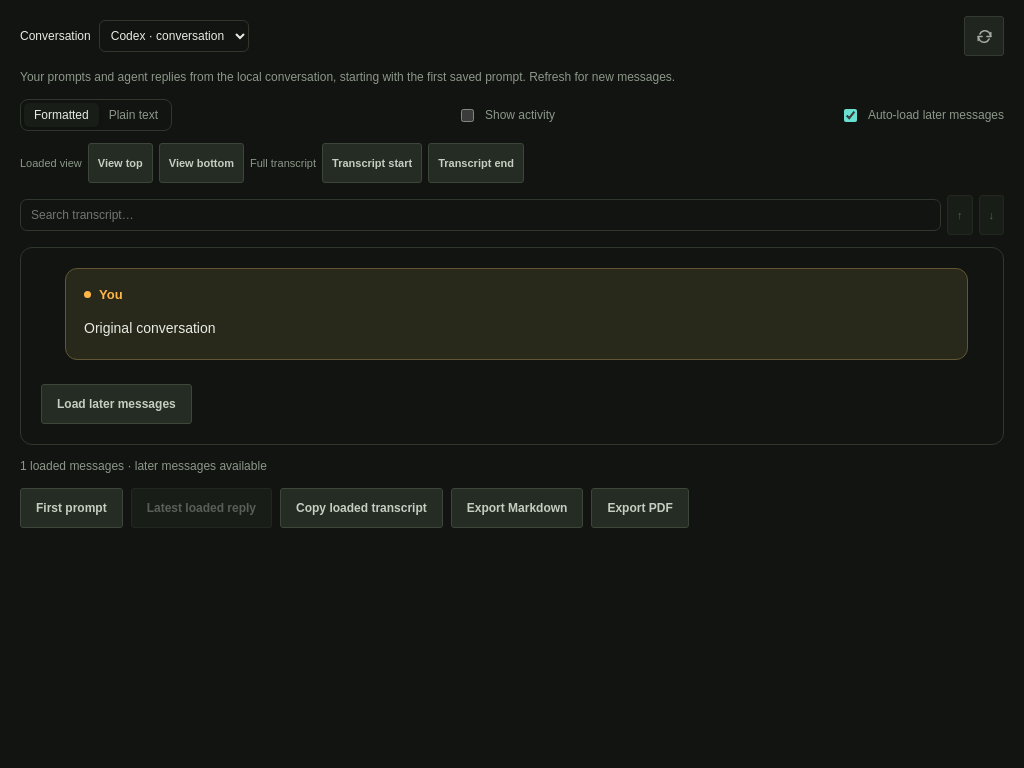
Test: AgentTranscript › ignores late full-transcript results after stop
Expected: the text "Original conversation" is shown, [84, 320, 216, 336]
Click the button "Transcript end" at (476, 163), box [428, 143, 524, 183]
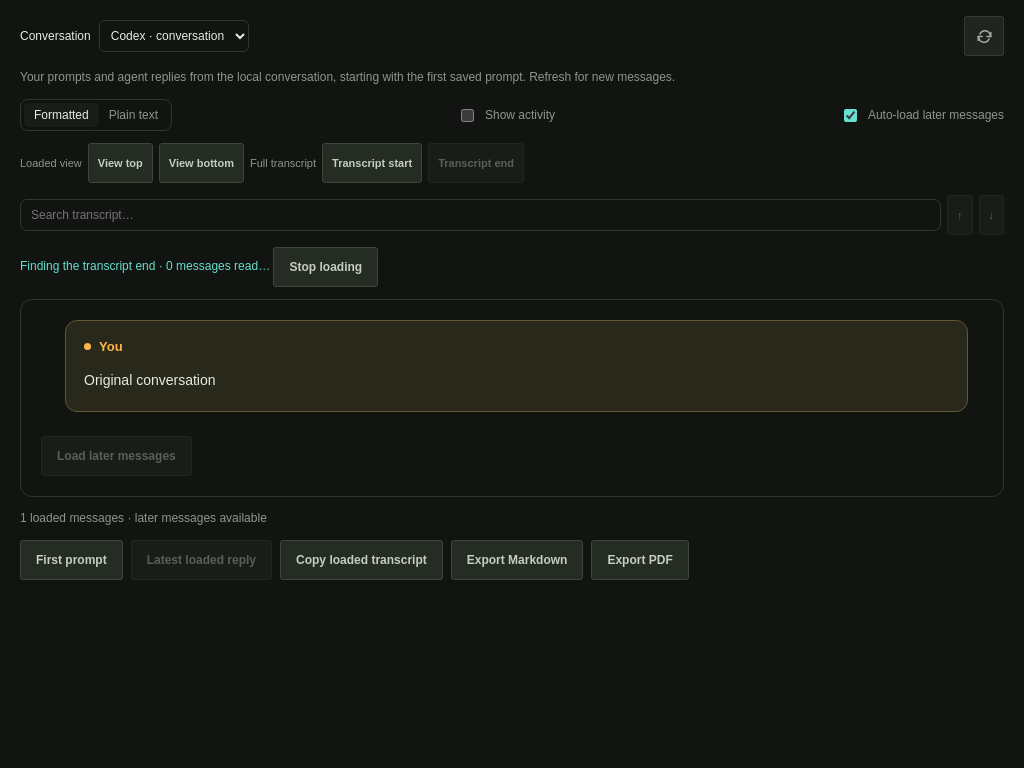
Click the button "Stop loading" at (326, 267), box [274, 247, 378, 287]
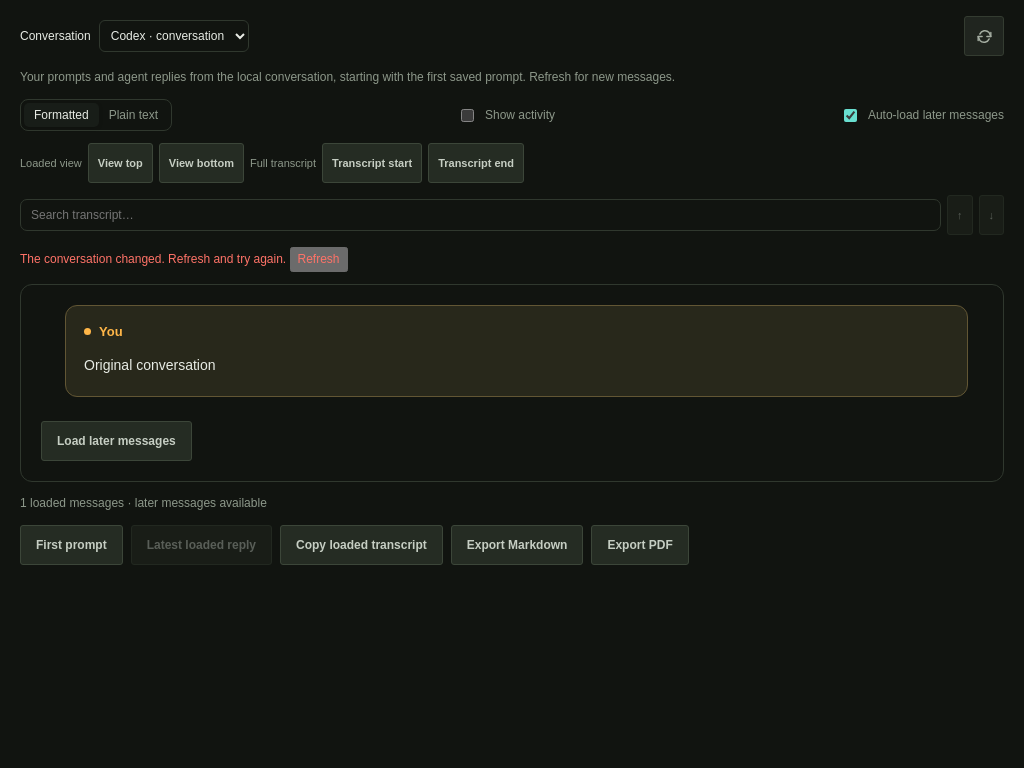
Expected: the button "Stop loading" is gone
